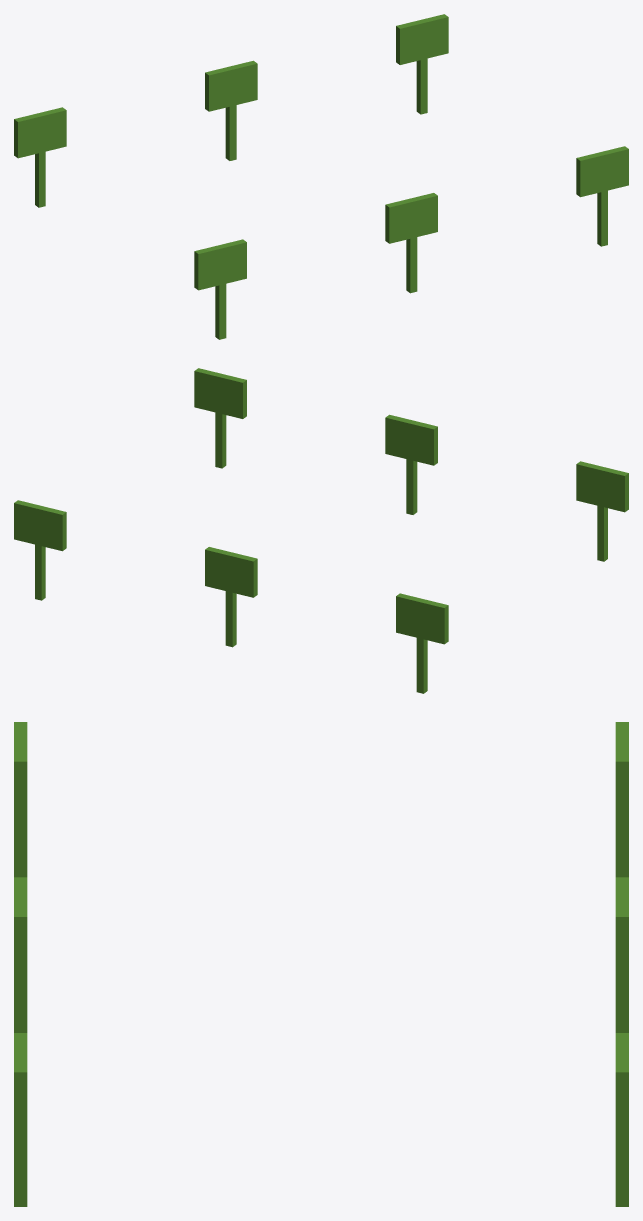
Rendered from carrot_young.glb.
3 renders of one model, top to bottom at view 1: azimuth 30°, elevation 25°; view 2: azimuth 150°, elevation 25°; view 3: azimuth 270°, elevation 25°, orthographic. The views are drawn at different scales.
Visible parts, largest first — view 1: carrot_young; view 2: carrot_young; view 3: carrot_young.
Boxes of the visible parts, <box> form: carrot_young: <box>14,14,628,339</box>; carrot_young: <box>14,368,628,693</box>; carrot_young: <box>14,722,628,1206</box>.
Size of the model in its own units: 1.24 by 0.25 by 0.92.
Materials: 1 (1 with a texture image).
